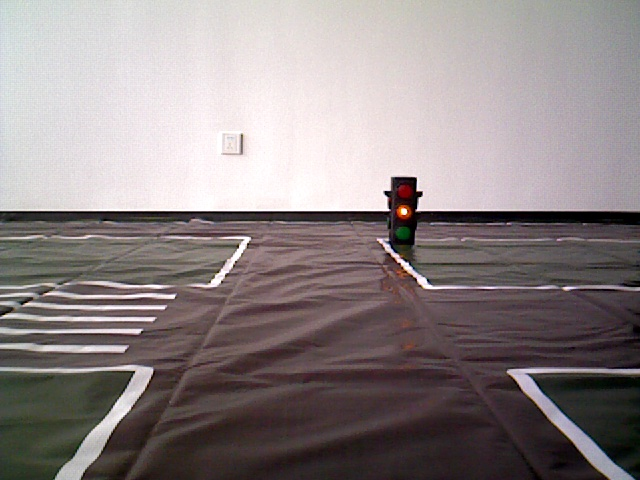yellow: (385, 171, 421, 245)
